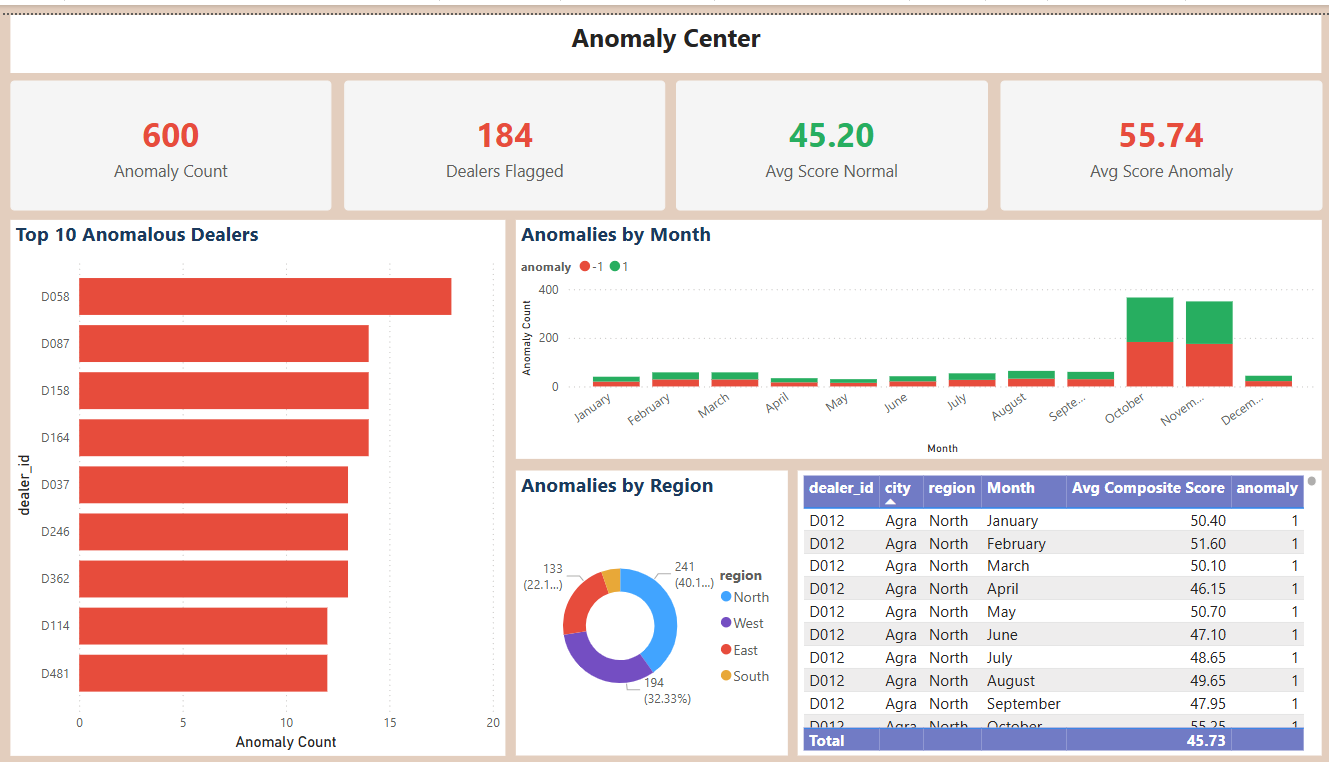

The dashboard page shown, as its layout file describes it:
{"tool":"powerbi","page":{"name":"4. Anomaly Center","canvas":[1280,720],"ordinal":3},"visuals":[{"type":"textbox","box":[9.6,0,1261.5,55.8],"z":0},{"type":"card","fields":{"Values":["dealer_kpi_with_anomalies.Anomaly Count"]},"box":[9.6,63.5,309.6,125],"z":1000},{"type":"card","fields":{"Values":["dealer_kpi_with_anomalies.Dealers Flagged"]},"box":[330.8,63.5,309.6,125],"z":2000},{"type":"card","fields":{"Values":["dealer_kpi_with_anomalies.Avg Score Normal"]},"box":[650,63.5,300,125],"z":3000},{"type":"card","fields":{"Values":["dealer_kpi_with_anomalies.Avg Score Anomaly"]},"box":[961.5,63.5,310,125],"z":4000},{"type":"columnChart","title":"Anomalies by Month","fields":{"Category":["DimDate.Date.Variation.Date Hierarchy.Month"],"Y":["dealer_kpi_with_anomalies.Anomaly Count"],"Series":["dealer_kpi_with_anomalies.anomaly"]},"box":[496.2,197.1,775,229.8],"z":5000},{"type":"donutChart","title":"Anomalies by Region","fields":{"Y":["dealer_kpi_with_anomalies.Anomaly Count"],"Category":["dealer_master.region"]},"box":[496.2,438.5,261.5,273.1],"z":6000},{"type":"tableEx","fields":{"Values":["dealer_master.dealer_id","dealer_master.city","dealer_master.region","DimDate.Date.Variation.Date Hierarchy.Month","dealer_kpi_with_anomalies.Avg Composite Score","dealer_kpi_with_anomalies.anomaly"]},"box":[767.3,438.5,503.8,273.1],"z":7000},{"type":"clusteredBarChart","title":"Top 10 Anomalous Dealers","fields":{"Category":["dealer_master.dealer_id"],"Y":["dealer_kpi_with_anomalies.Anomaly Count"]},"box":[9.6,197.1,476,514.4],"z":8000}]}

Visuals, with their boxes in screenshot pixels (x1, y1, x2, y2), scaled from the page's 1280x720 canvas onto the 1329x762 screenshot:
textbox: {"left": 10, "top": 0, "right": 1320, "bottom": 59}
card - dealer_kpi_with_anomalies.Anomaly Count: {"left": 10, "top": 67, "right": 331, "bottom": 199}
card - dealer_kpi_with_anomalies.Dealers Flagged: {"left": 343, "top": 67, "right": 665, "bottom": 199}
card - dealer_kpi_with_anomalies.Avg Score Normal: {"left": 675, "top": 67, "right": 986, "bottom": 199}
card - dealer_kpi_with_anomalies.Avg Score Anomaly: {"left": 998, "top": 67, "right": 1320, "bottom": 199}
"Anomalies by Month" columnChart: {"left": 515, "top": 209, "right": 1320, "bottom": 452}
"Anomalies by Region" donutChart: {"left": 515, "top": 464, "right": 787, "bottom": 753}
tableEx - dealer_master.dealer_id x dealer_master.city: {"left": 797, "top": 464, "right": 1320, "bottom": 753}
"Top 10 Anomalous Dealers" clusteredBarChart: {"left": 10, "top": 209, "right": 504, "bottom": 753}
